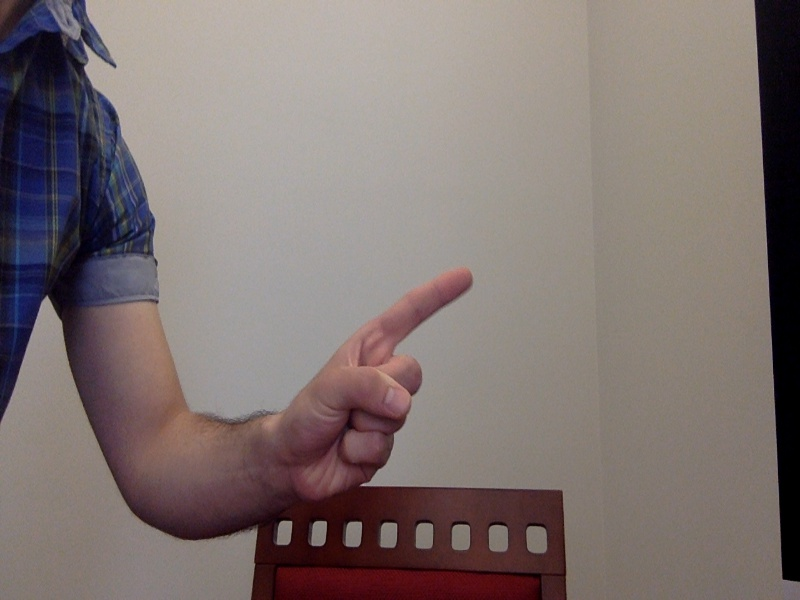1-hand: (277, 270, 479, 494)
